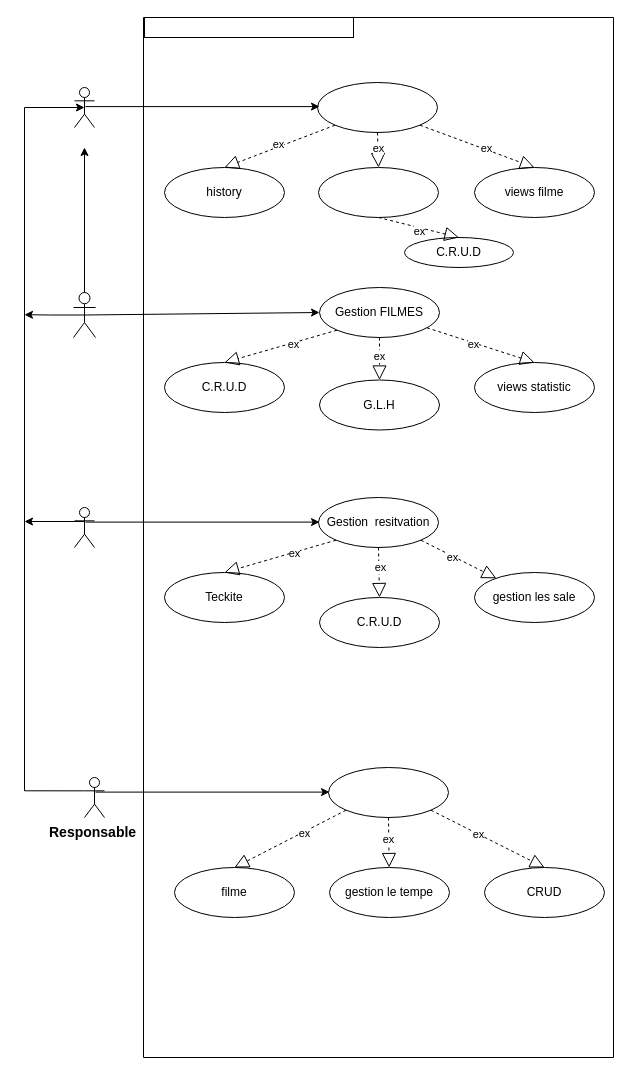
Image size: 631x1075. Some labels were removed from this diagram. The shapes that lost their labels are listed below. From the top down, each one's centre as x and y in pixels, then its label:
the point at 249,27: cenima movise
the point at 84,107: Client
the point at 377,107: Login
the point at 378,192: resivastion
the point at 84,315: Administrateur
the point at 84,527: Responsable TIKET
the point at 388,792: Gestion projections
